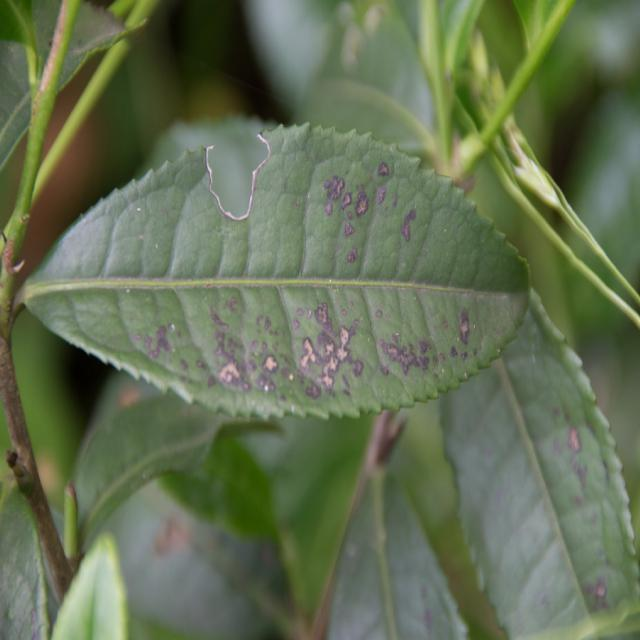Tea algae leaf spot: (93, 135, 510, 410)
